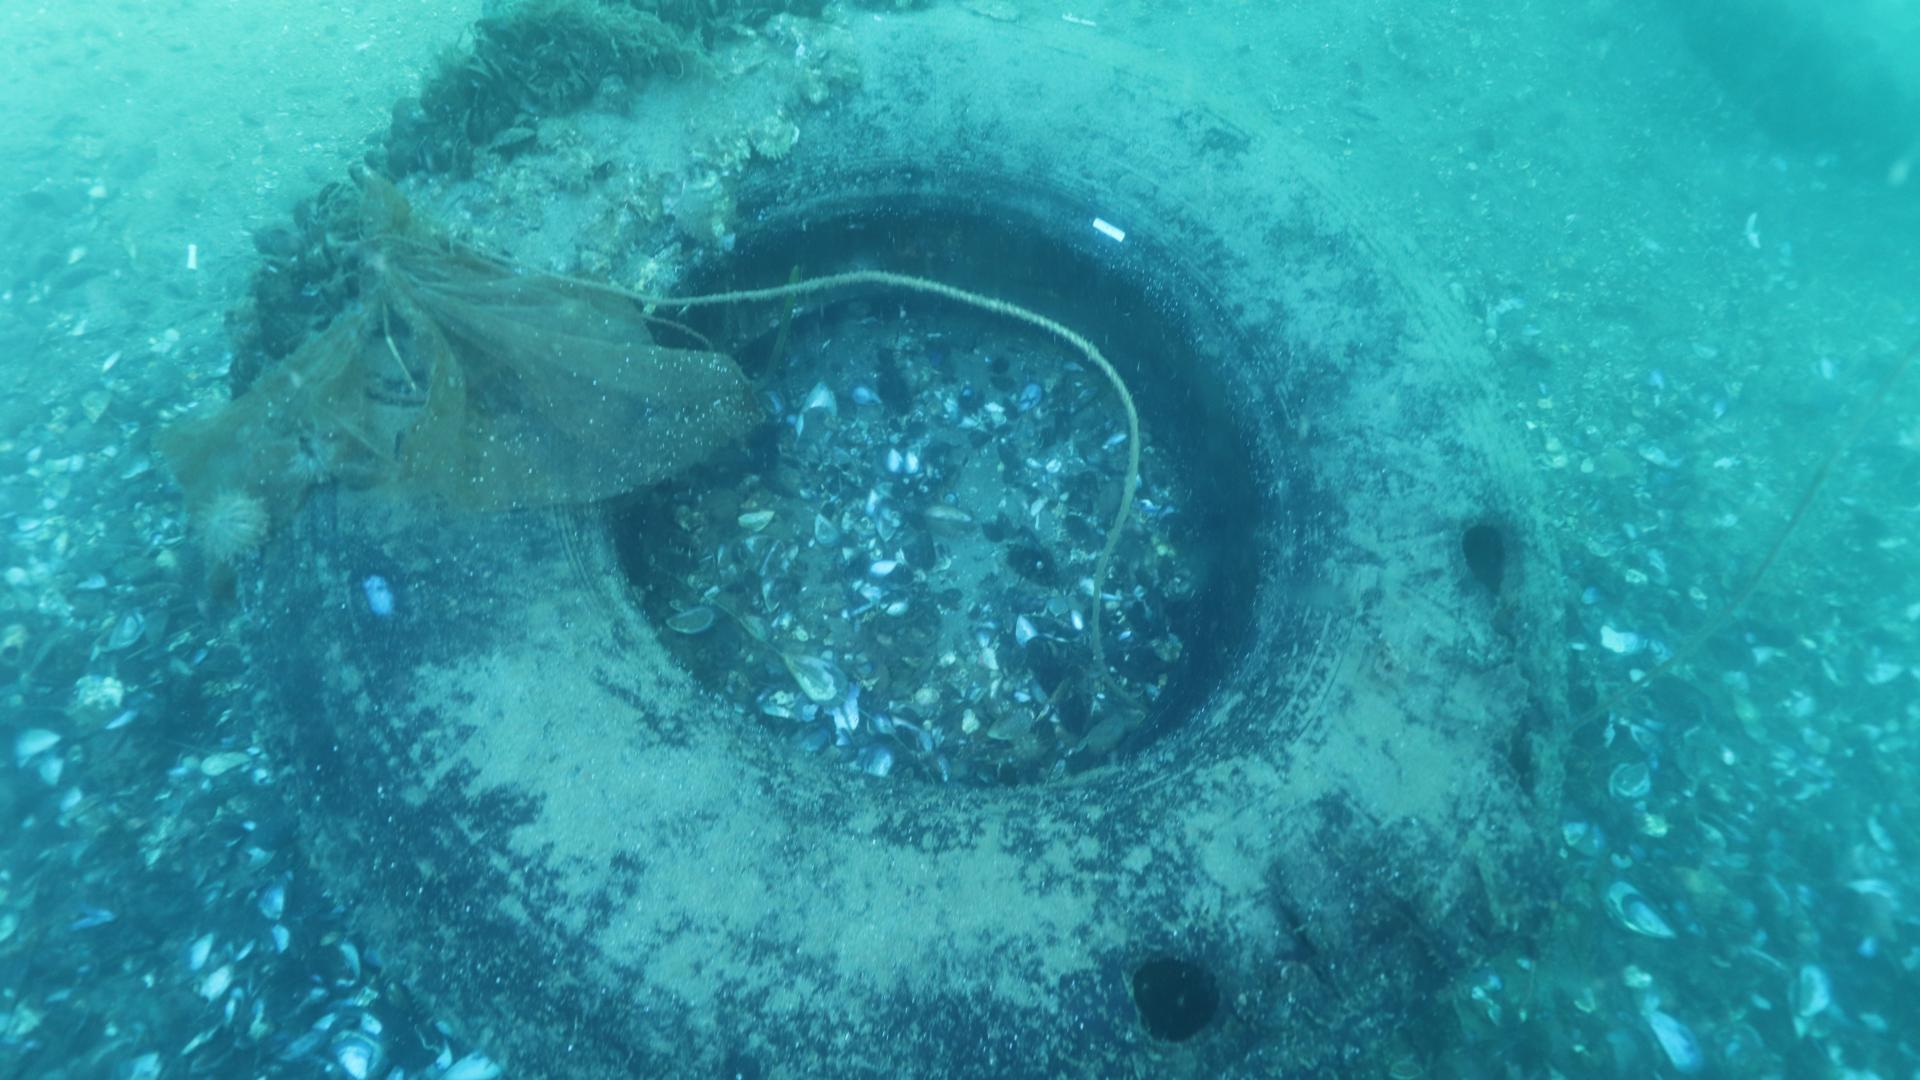tire: (225, 3, 1569, 1080)
